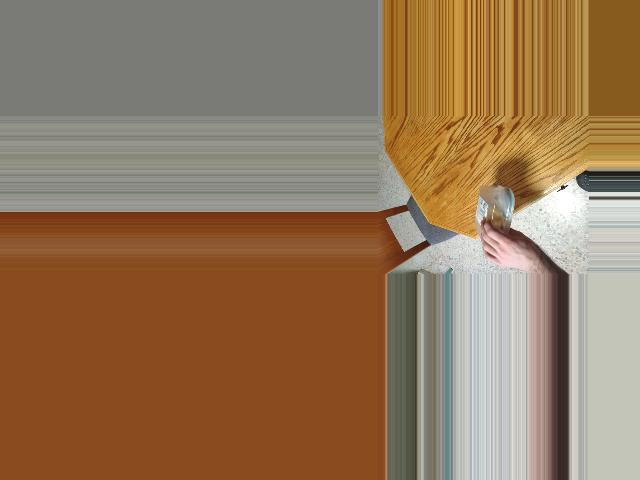cheese: (471, 193, 520, 252)
